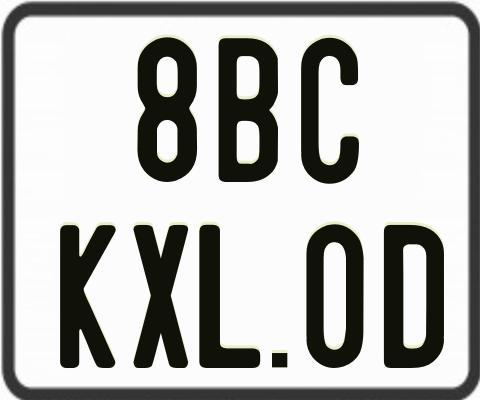0: (306, 222, 369, 371)
8: (134, 35, 199, 185)
B: (218, 37, 279, 182)
C: (300, 37, 358, 189)
D: (382, 225, 448, 371)
K: (60, 225, 121, 370)
L: (197, 224, 263, 372)
X: (131, 225, 187, 372)
